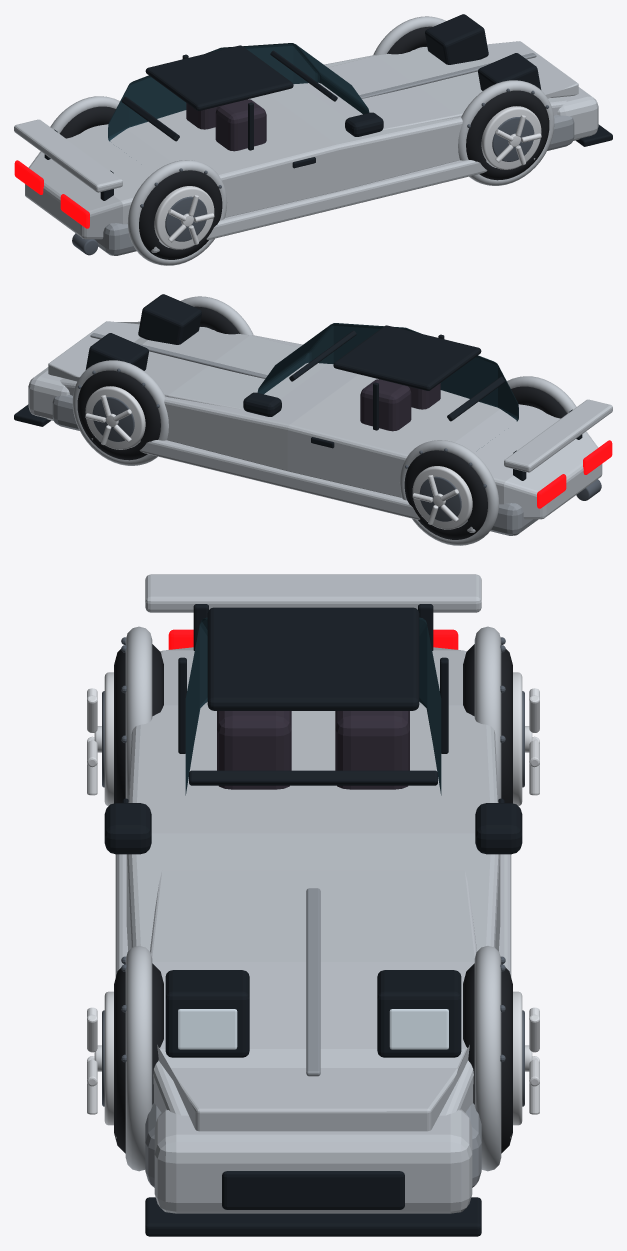
The model's file is silver_pop_up_coupe.fbx.
3 views of the same model, one above another, from view 1: azimuth 30°, elevation 25°; view 2: azimuth 150°, elevation 25°; view 3: azimuth 270°, elevation 25° (orthographic). The views are drawn at different scales.
Visible parts, largest first — view 1: Main wedge body, Hood, Roof panel, Cabin glass, Side skirt L, Rear wing blade, Wheel 3 tire, Wheel 1 tire, Wide fender flare 3, Popup housing 1, Wide fender flare 1, Bucket seat -0.38 (+20 smaller); view 2: Main wedge body, Hood, Roof panel, Cabin glass, Side skirt R, Rear wing blade, Wheel 4 tire, Wheel 2 tire, Wide fender flare 4, Popup housing -1, Wide fender flare 2, Bucket seat 0.38 (+19 smaller); view 3: Hood, Main wedge body, Roof panel, Front bumper, Rear wing blade, Front splitter, Front intake, Wide fender flare 1, Wide fender flare 2, Popup housing -1, Popup housing 1, Bucket seat -0.38 (+21 smaller).
Part boxes in pixels (x1=…): Main wedge body: x1=25, y1=47, x2=566, y2=239; Hood: x1=299, y1=41, x2=578, y2=129; Roof panel: x1=145, y1=45, x2=293, y2=110; Cabin glass: x1=108, y1=43, x2=369, y2=141; Side skirt L: x1=151, y1=158, x2=535, y2=252; Rear wing blade: x1=14, y1=119, x2=122, y2=192; Wheel 3 tire: x1=139, y1=170, x2=222, y2=259; Wheel 1 tire: x1=466, y1=90, x2=549, y2=180; Wide fender flare 3: x1=127, y1=160, x2=227, y2=265; Popup housing 1: x1=425, y1=14, x2=488, y2=64; Wide fender flare 1: x1=458, y1=80, x2=554, y2=185; Bucket seat -0.38: x1=215, y1=99, x2=266, y2=151; Main wedge body: x1=60, y1=327, x2=602, y2=519; Hood: x1=48, y1=321, x2=327, y2=409; Roof panel: x1=333, y1=325, x2=481, y2=390; Cabin glass: x1=257, y1=323, x2=518, y2=421; Side skirt R: x1=91, y1=438, x2=475, y2=532; Rear wing blade: x1=504, y1=399, x2=612, y2=472; Wheel 4 tire: x1=404, y1=450, x2=487, y2=539; Wheel 2 tire: x1=77, y1=370, x2=160, y2=460; Wide fender flare 4: x1=399, y1=440, x2=499, y2=545; Popup housing -1: x1=138, y1=294, x2=201, y2=344; Wide fender flare 2: x1=72, y1=360, x2=168, y2=465; Bucket seat 0.38: x1=360, y1=379, x2=411, y2=431; Hood: x1=150, y1=870, x2=476, y2=1131; Main wedge body: x1=126, y1=647, x2=500, y2=1115; Roof panel: x1=207, y1=607, x2=419, y2=710; Front bumper: x1=154, y1=1109, x2=472, y2=1213; Rear wing blade: x1=145, y1=574, x2=481, y2=612; Front splitter: x1=145, y1=1197, x2=481, y2=1236; Front intake: x1=222, y1=1171, x2=404, y2=1209; Wide fender flare 1: x1=125, y1=946, x2=152, y2=1171; Wide fender flare 2: x1=474, y1=946, x2=501, y2=1171; Popup housing -1: x1=165, y1=970, x2=249, y2=1057; Popup housing 1: x1=377, y1=970, x2=461, y2=1057; Bucket seat -0.38: x1=217, y1=711, x2=291, y2=789.
Size of the model in its own units: 773 by 193 by 291.
